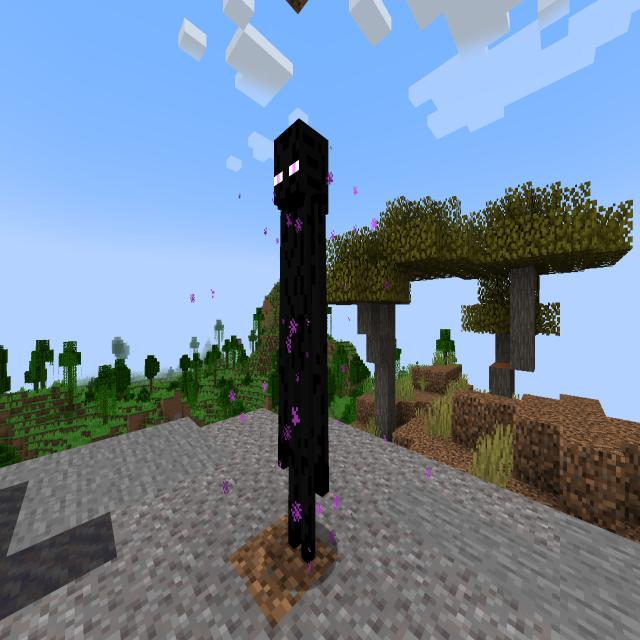Enderman: (261, 112, 345, 575)
